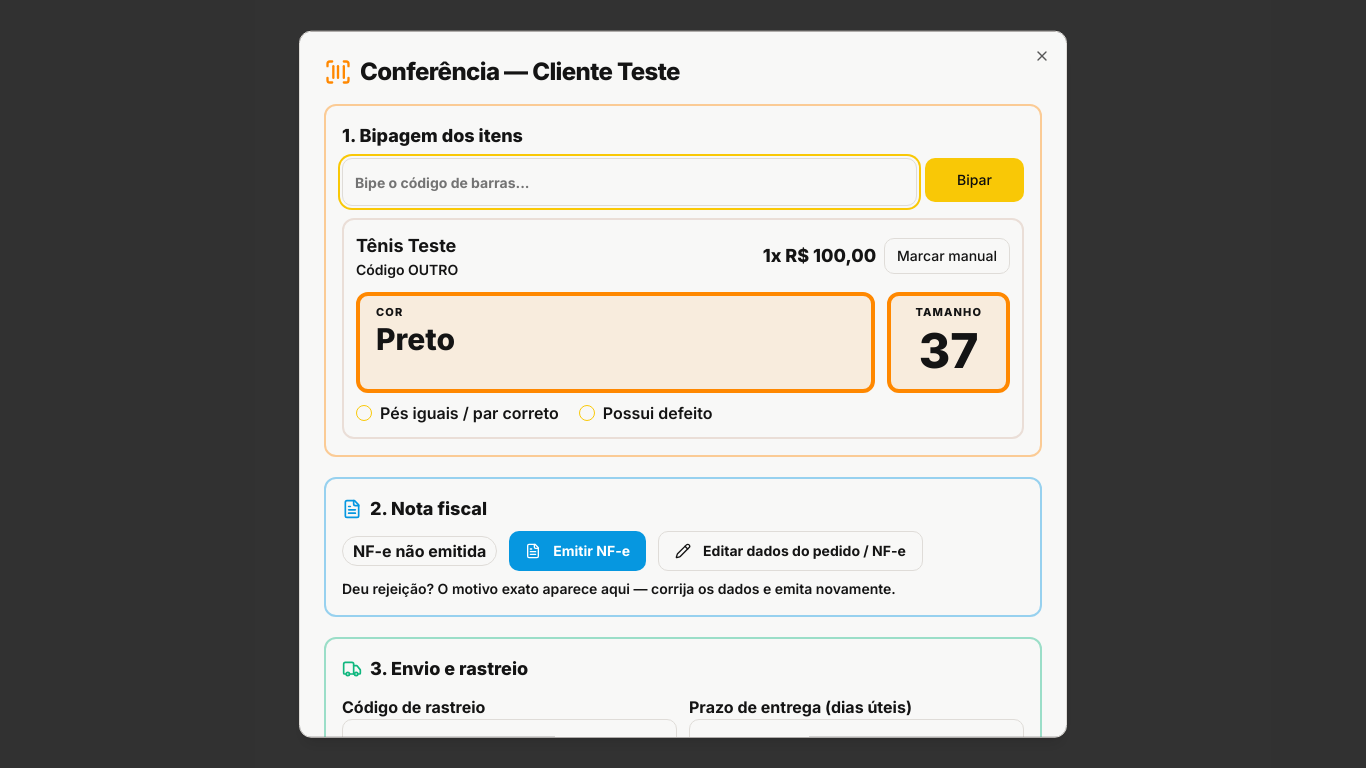
Test: conferência da Expedição do PDV › item fora do pedido segue o aviso atual
Type "T101-37" into the field with placeholder "Bipe o código de barras...".
click(630, 182); type("T101-37")  # box [342,158,917,206]
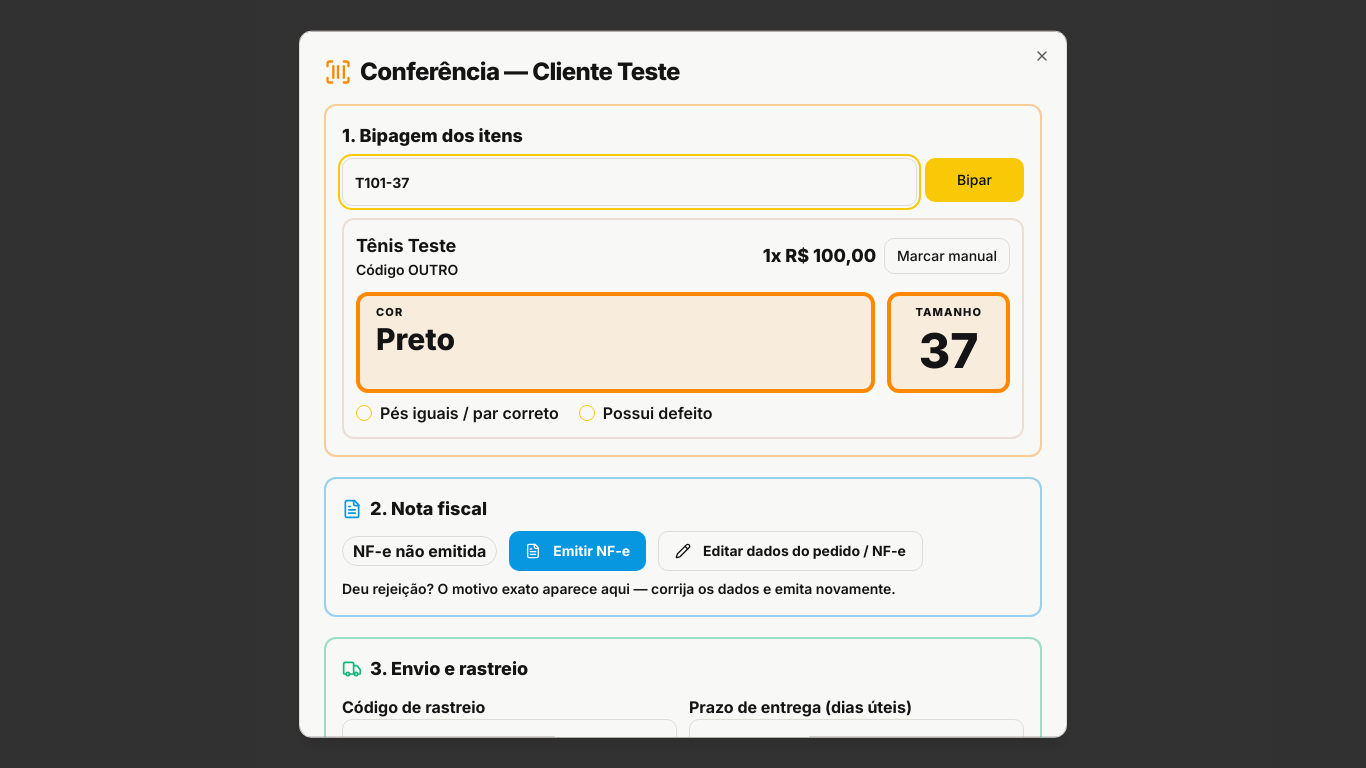
Press Enter in the field with placeholder "Bipe o código de barras...", box [342,158,917,206]
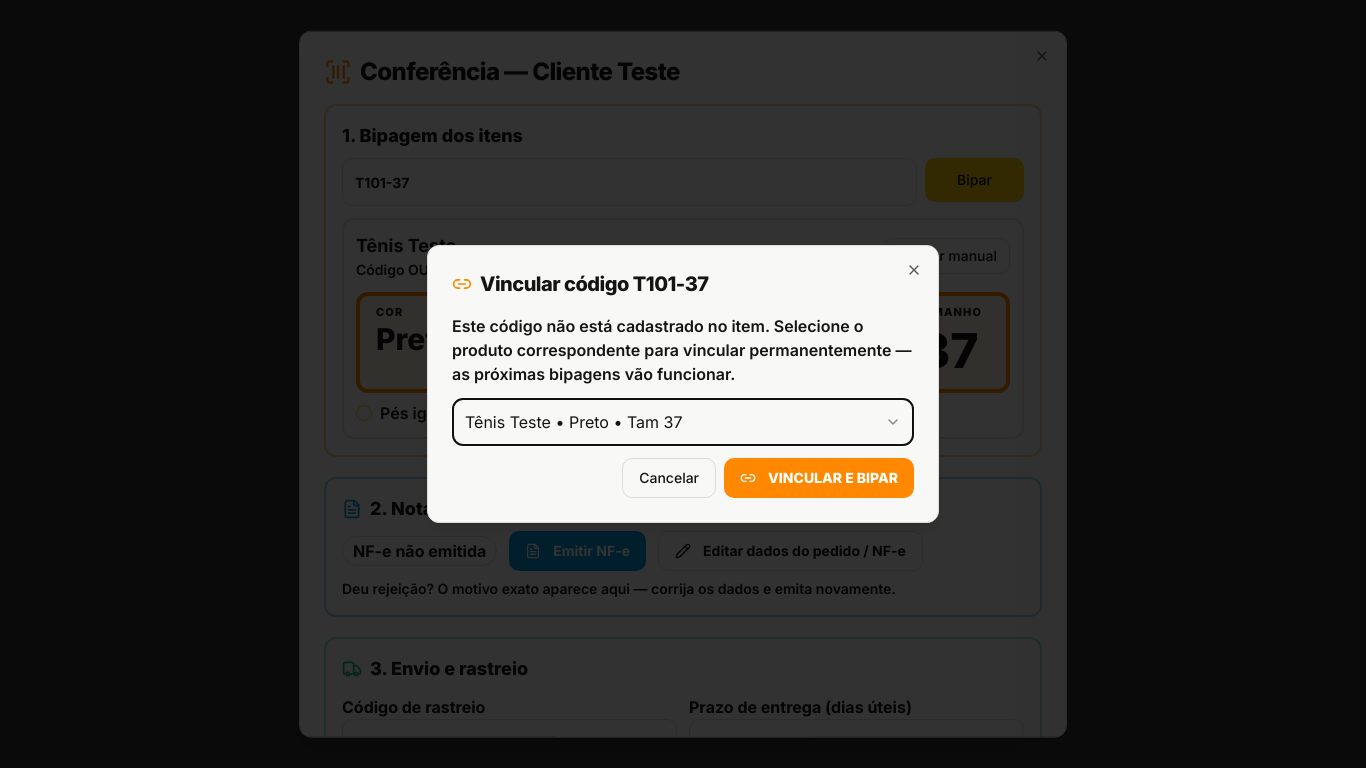
Check: the heading "Vincular código T101-37" is shown, box [452,272,709,296]
